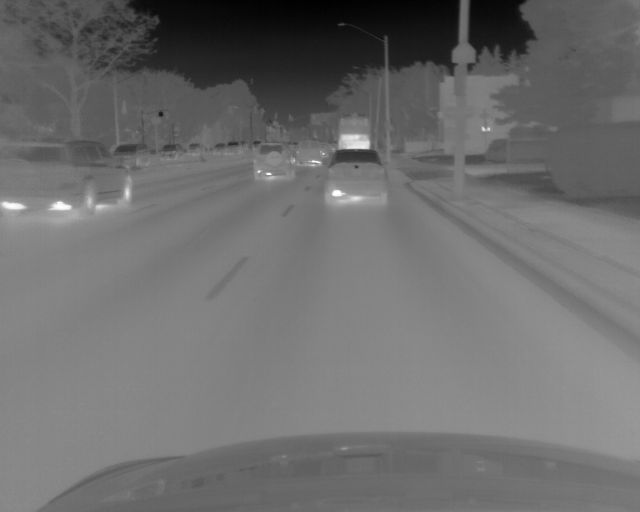car: (1, 138, 133, 215), (326, 148, 386, 206), (251, 143, 297, 181), (336, 115, 370, 149), (110, 143, 151, 170), (295, 139, 321, 167), (158, 144, 185, 161), (224, 141, 242, 156), (188, 142, 203, 157), (211, 143, 223, 156)
